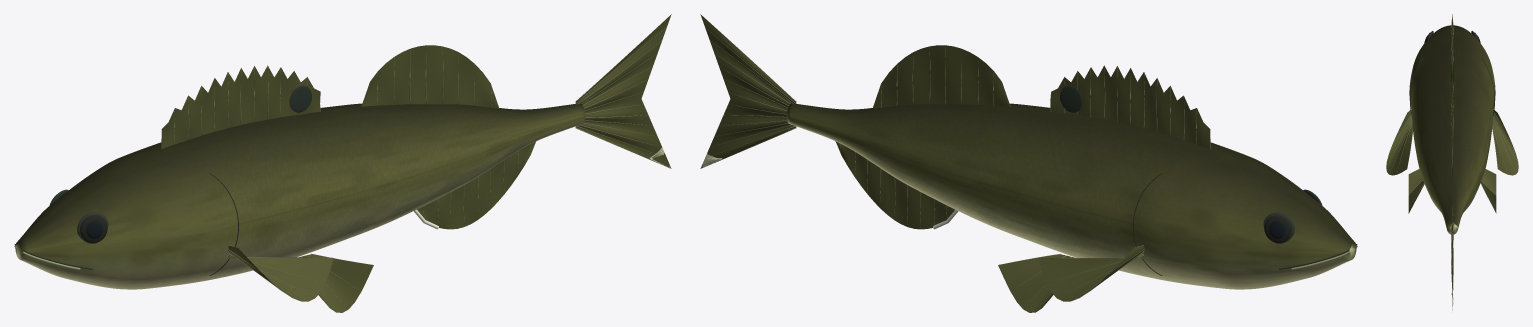
File: walleye.glb
3 renders of one model, left to right at view 1: azimuth 30°, elevation 25°; view 2: azimuth 150°, elevation 25°; view 3: azimuth 270°, elevation 25°, orthographic. The views are drawn at different scales.
Visible parts, largest first — view 1: walleye specimen.002; view 2: walleye specimen.002; view 3: walleye specimen.002.
Boxes of the visible parts, x1,y1,x2,y2 form: walleye specimen.002: (14,14,671,312); walleye specimen.002: (700,14,1357,312); walleye specimen.002: (1386,14,1518,312).
Size of the model in its own units: 2.38 by 0.8347 by 0.5999.
Materials: 9 (4 with a texture image).
